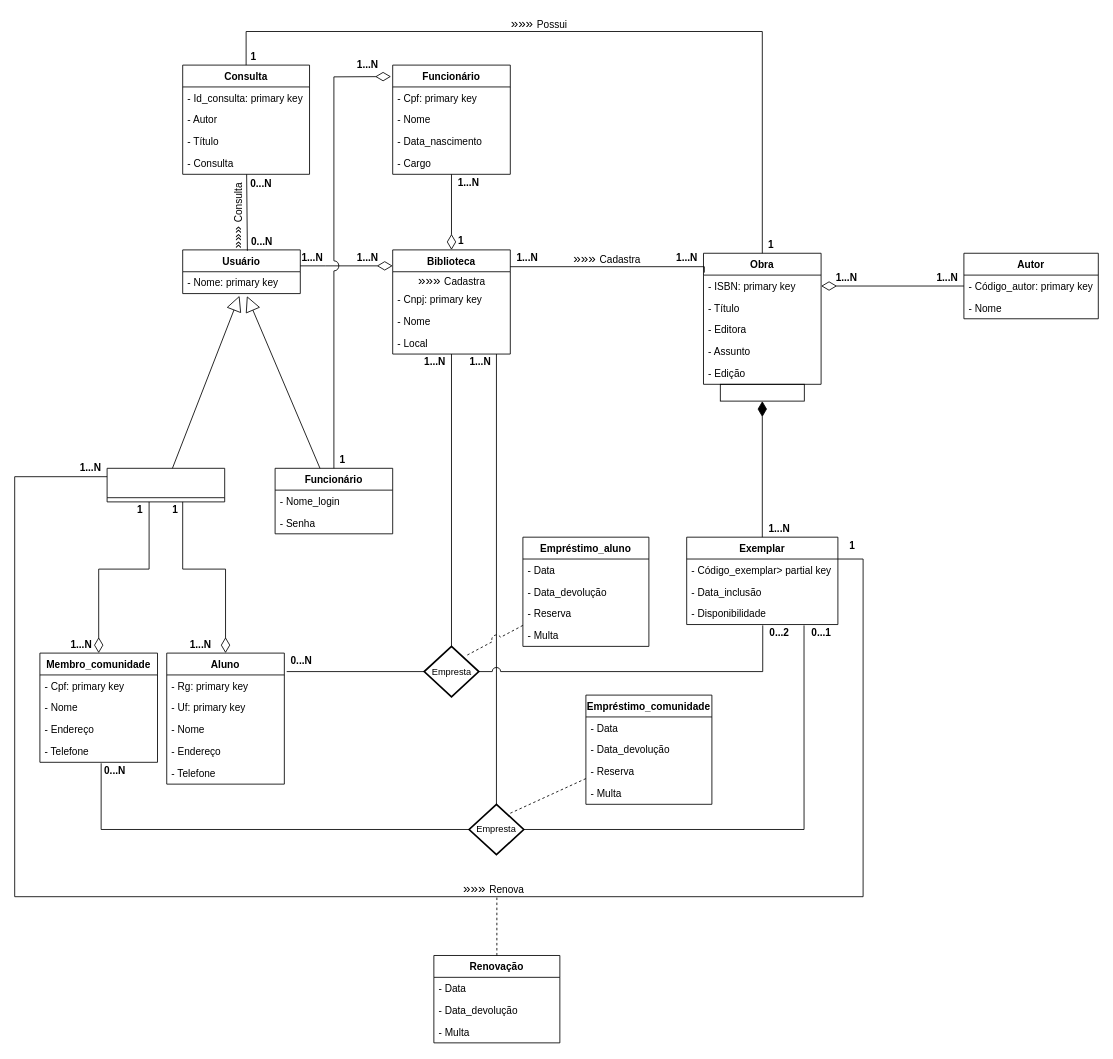
Image size: 1113x1059. Some labels were removed from this diagram. The centre of each missing label's shape, as x and y in pixels:
Comum: point 165,484
Código_exemplar: point 761,392
